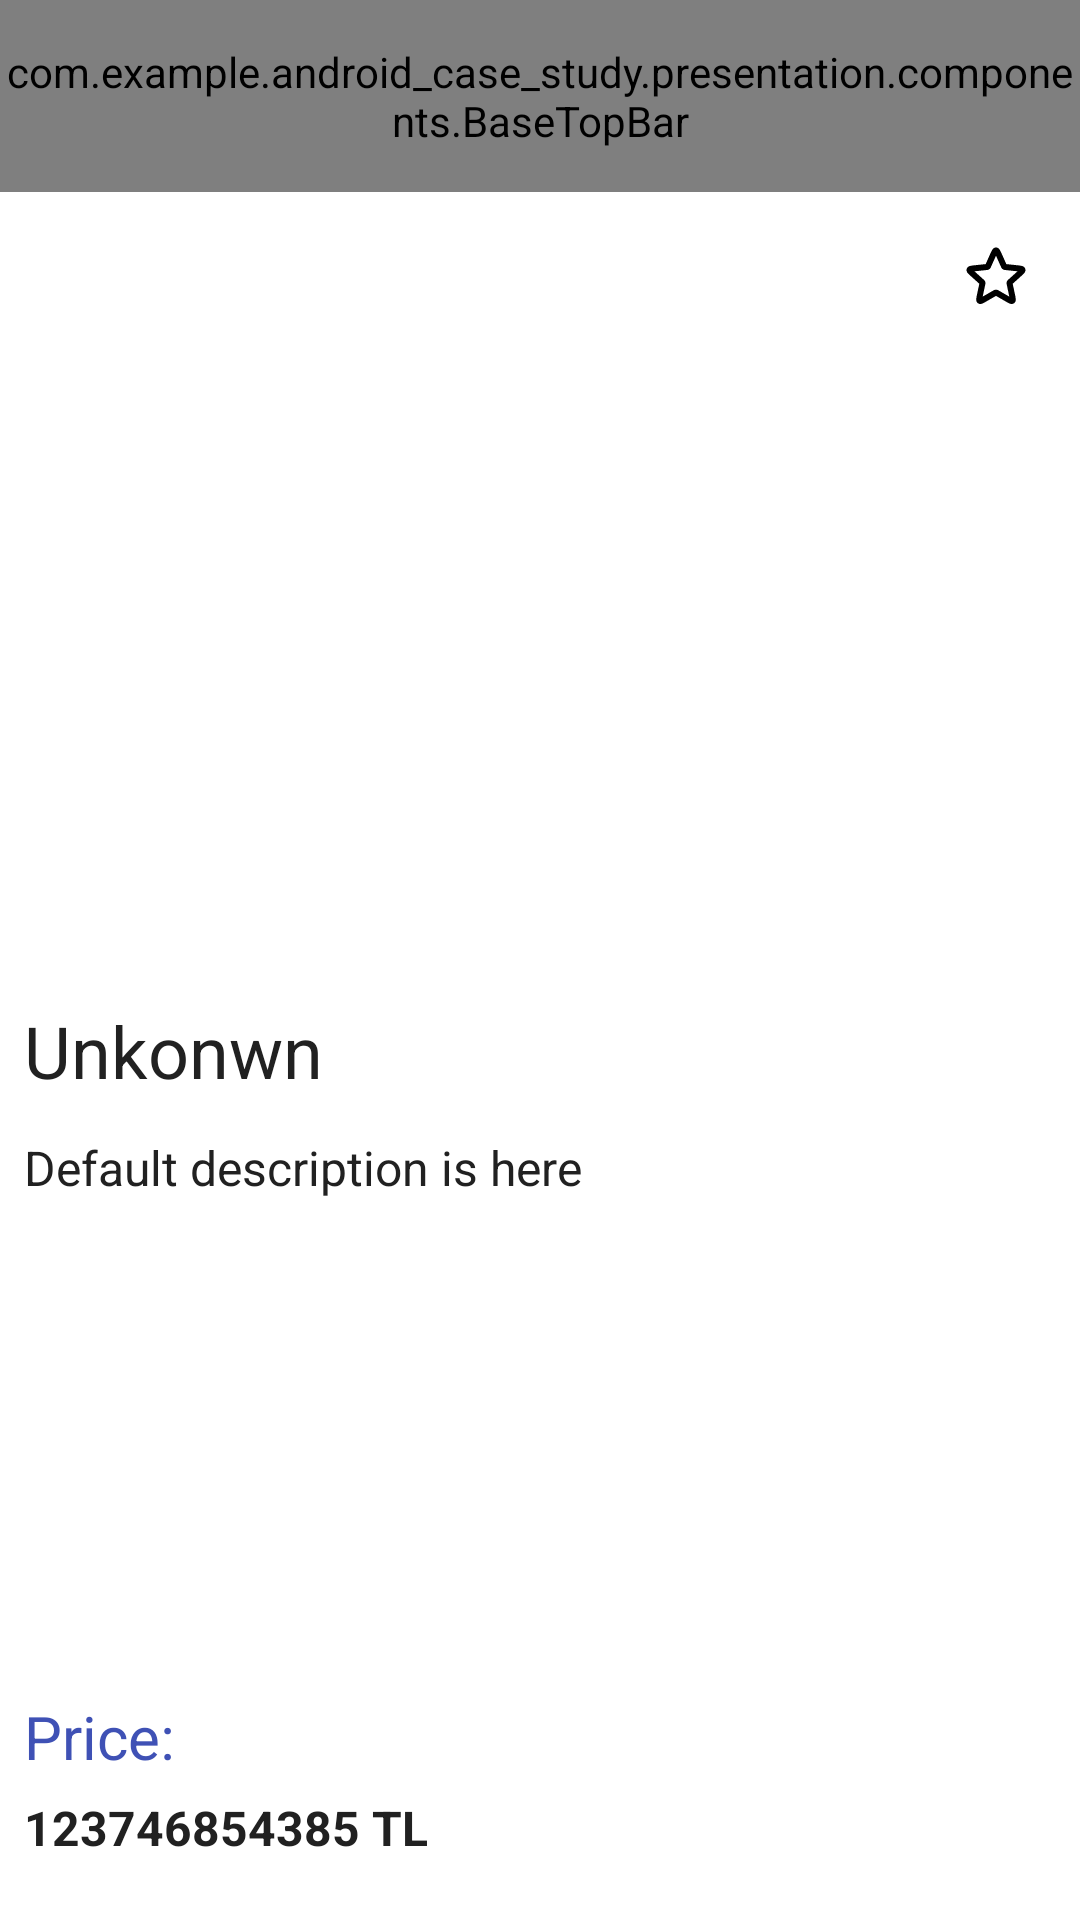

Where icons sit on this 1080 x 1920 app screen, as (x1, y1, x2, y2):
star: (966, 247, 1026, 304)
